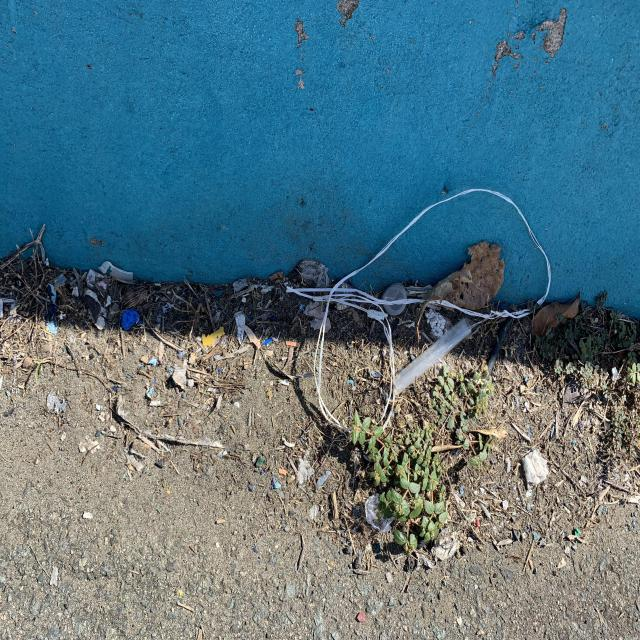litter: (372, 305, 487, 409)
